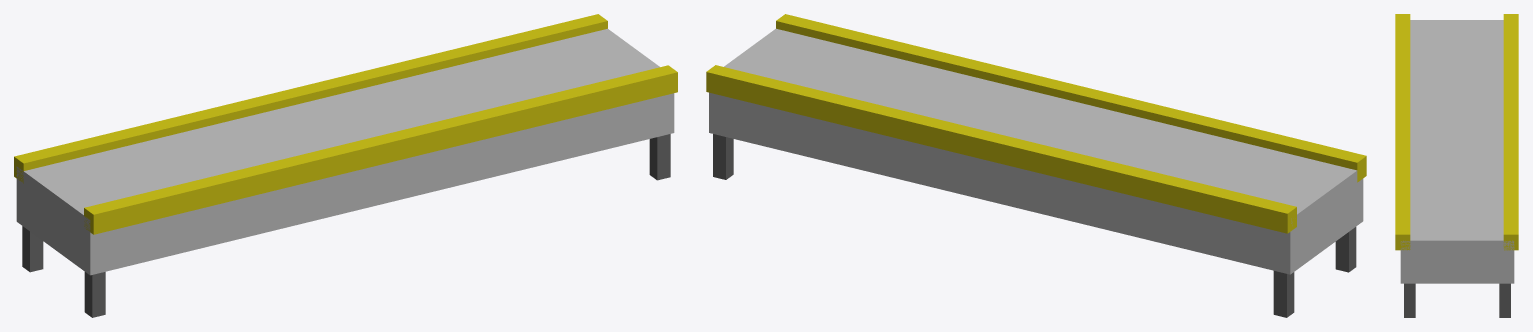
Rendered from line_waste.fbx.
3 views of the same model, side by side, from view 1: azimuth 30°, elevation 25°; view 2: azimuth 150°, elevation 25°; view 3: azimuth 270°, elevation 25° (orthographic). The views are drawn at different scales.
Parts seen in each view (by area): view 1: Cube, Cube.002, Cube.001, Cube.006, Cube.003, Cube.005; view 2: Cube, Cube.001, Cube.002, Cube.005, Cube.004, Cube.006; view 3: Cube, Cube.002, Cube.001, Cube.004, Cube.003.
Part boxes in pixels (x1,y1,x2,y2): Cube: (16, 28, 674, 275); Cube.002: (84, 65, 677, 234); Cube.001: (14, 14, 607, 183); Cube.006: (84, 272, 105, 317); Cube.003: (649, 134, 670, 180); Cube.005: (22, 226, 43, 272); Cube: (709, 28, 1363, 274); Cube.001: (706, 65, 1296, 233); Cube.002: (776, 14, 1366, 182); Cube.005: (1273, 271, 1294, 317); Cube.004: (713, 134, 733, 179); Cube.006: (1335, 227, 1356, 272); Cube: (1400, 20, 1514, 283); Cube.002: (1395, 14, 1410, 250); Cube.001: (1503, 14, 1518, 250); Cube.004: (1499, 283, 1510, 317); Cube.003: (1404, 283, 1415, 317).
Bounding box in the file's own units: 919 × 163 × 217.
